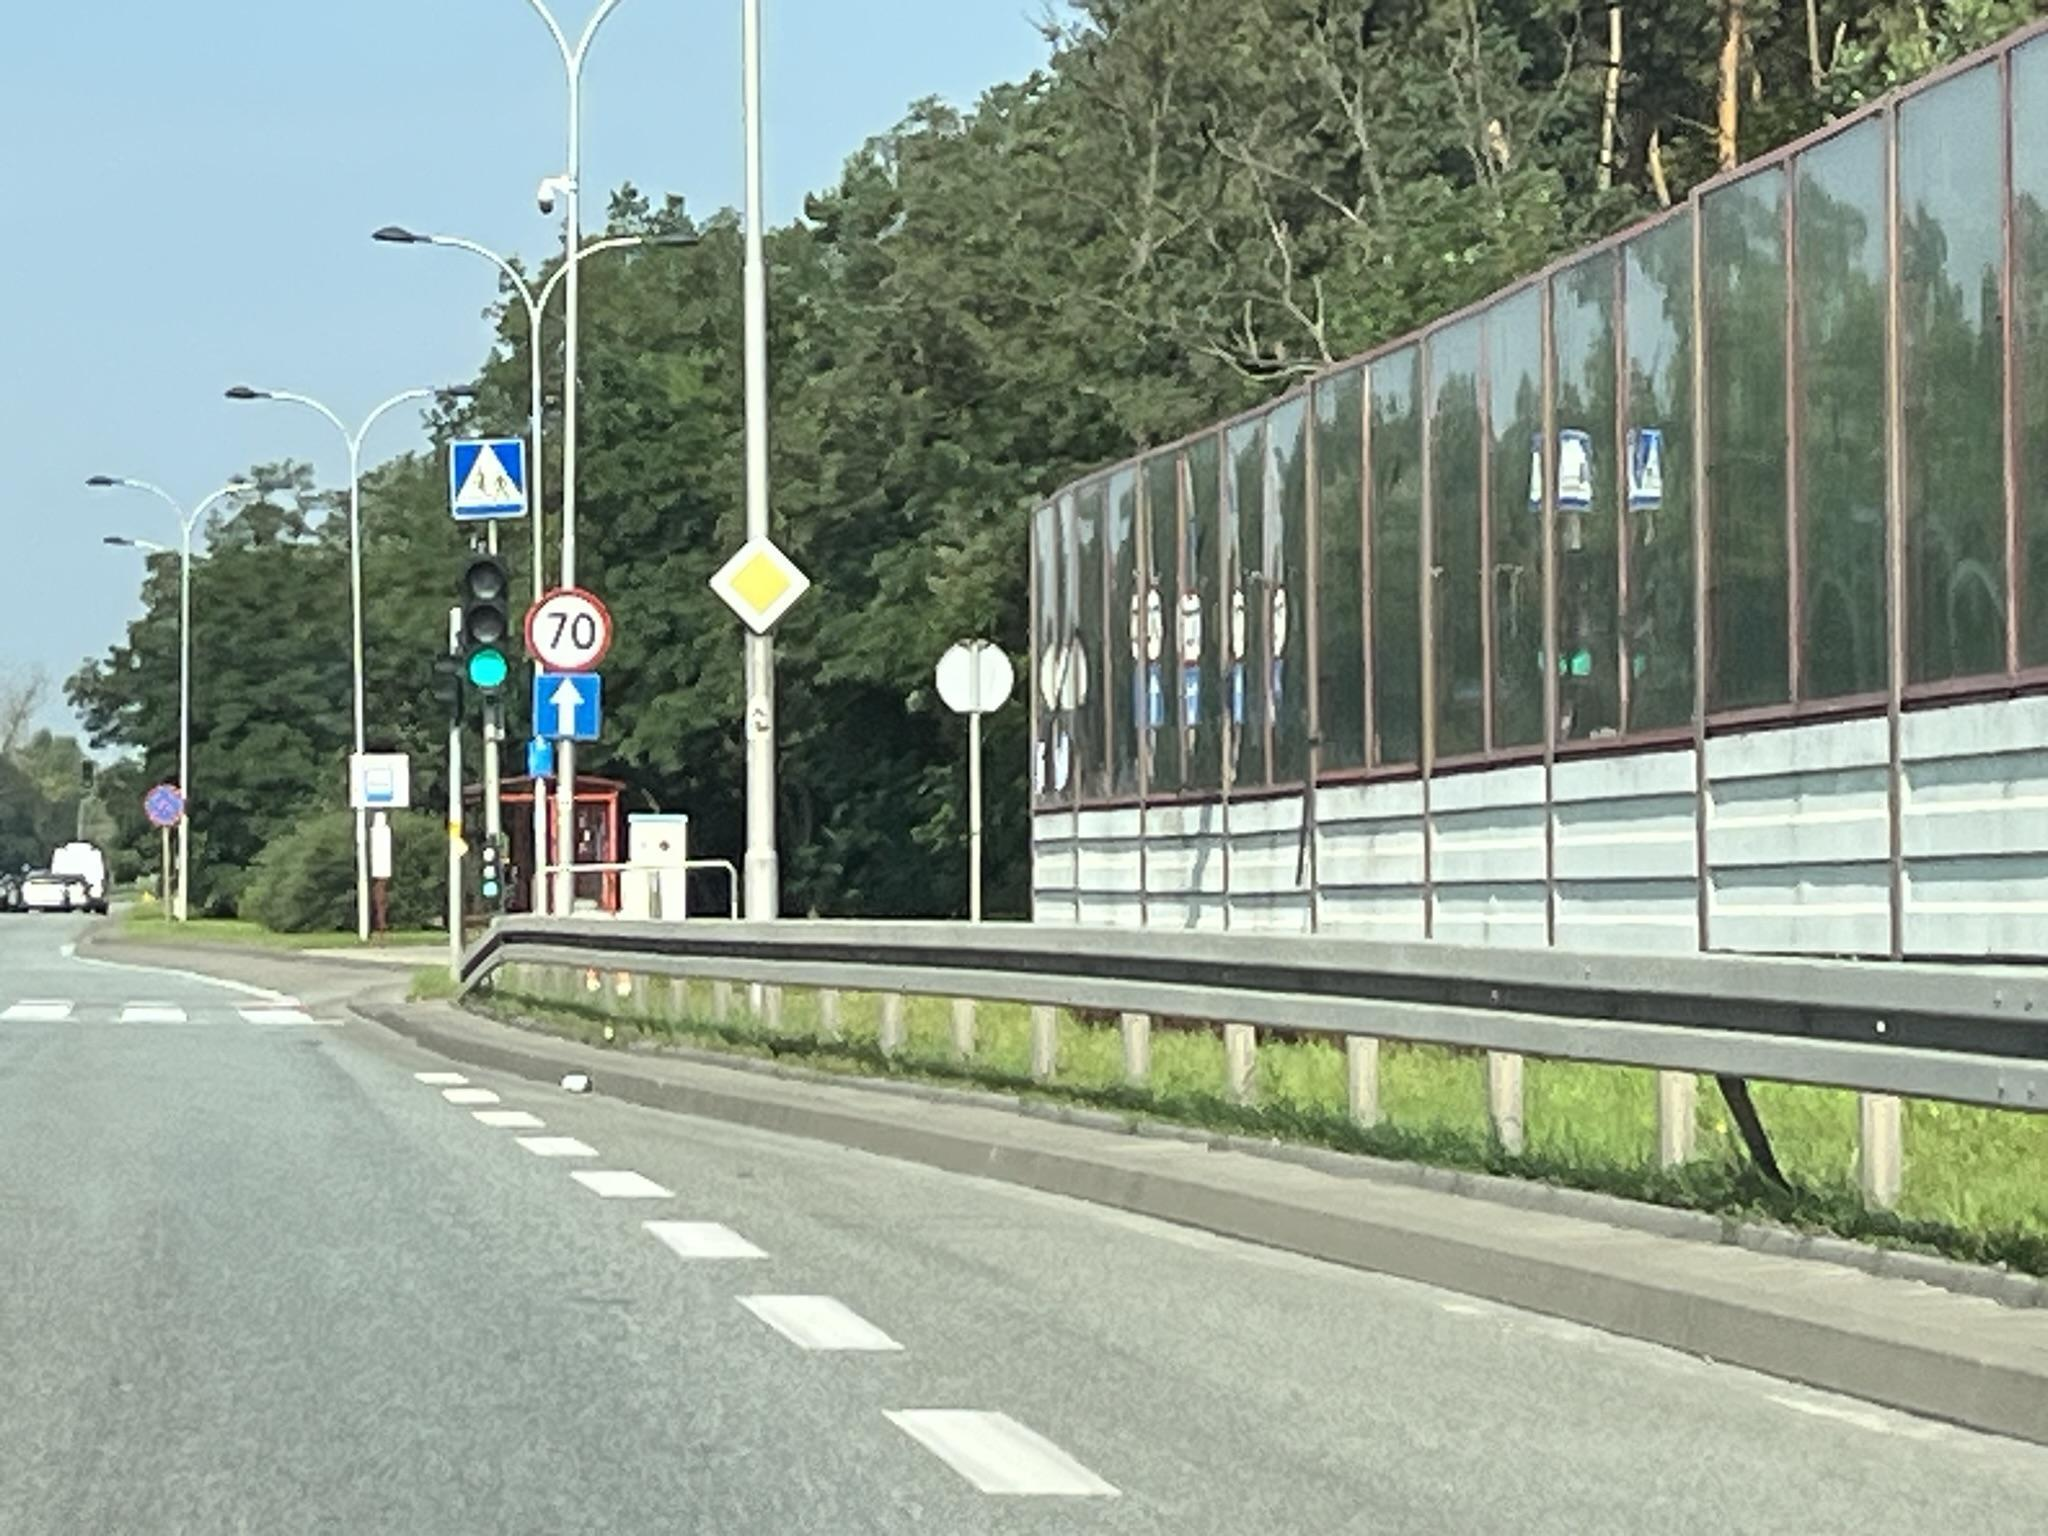information: (706, 537, 813, 637), (450, 437, 529, 520), (534, 673, 605, 742), (363, 766, 393, 802)
prohibitory: (522, 587, 613, 673), (145, 784, 185, 829)
